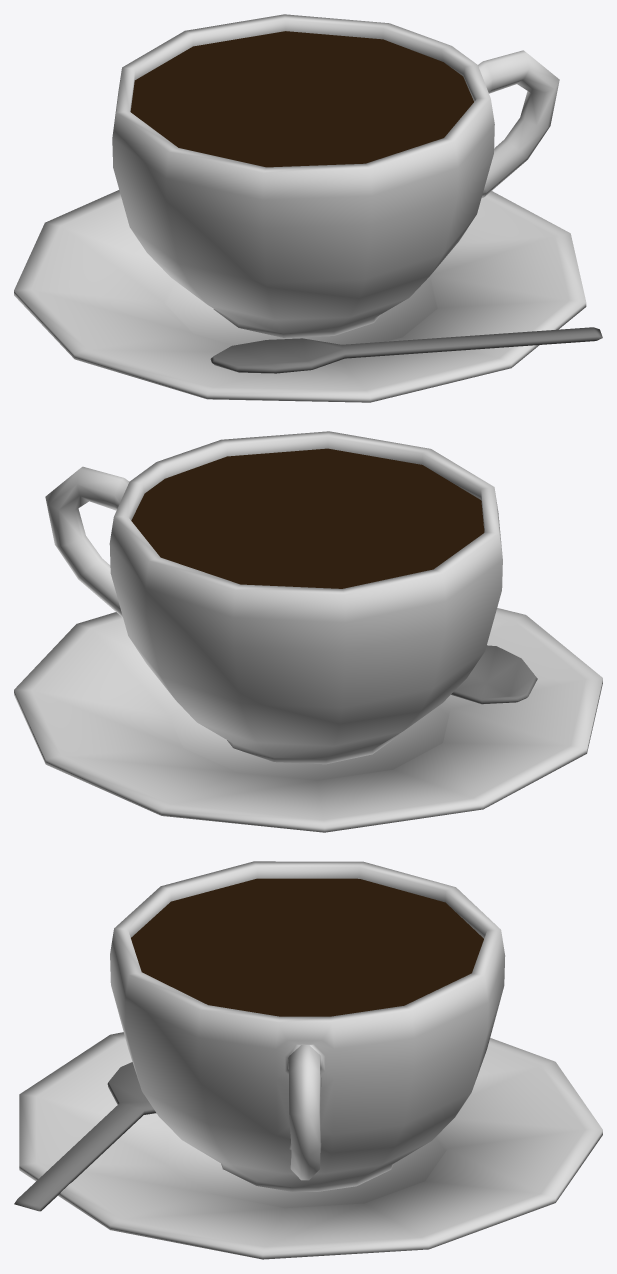
File: SM_Coffee.fbx
The picture shows the model from 3 angles, top to bottom: view 1: azimuth 30°, elevation 25°; view 2: azimuth 150°, elevation 25°; view 3: azimuth 270°, elevation 25°; orthographic projection. The views are drawn at different scales.
Parts seen in each view (by area): view 1: Coffee; view 2: Coffee; view 3: Coffee.
Boxes of the visible parts, <box> form: Coffee: <box>14,14,602,402</box>; Coffee: <box>14,431,602,832</box>; Coffee: <box>14,861,602,1259</box>.
Size of the model in its own units: 30.13 by 30.62 by 12.7.
